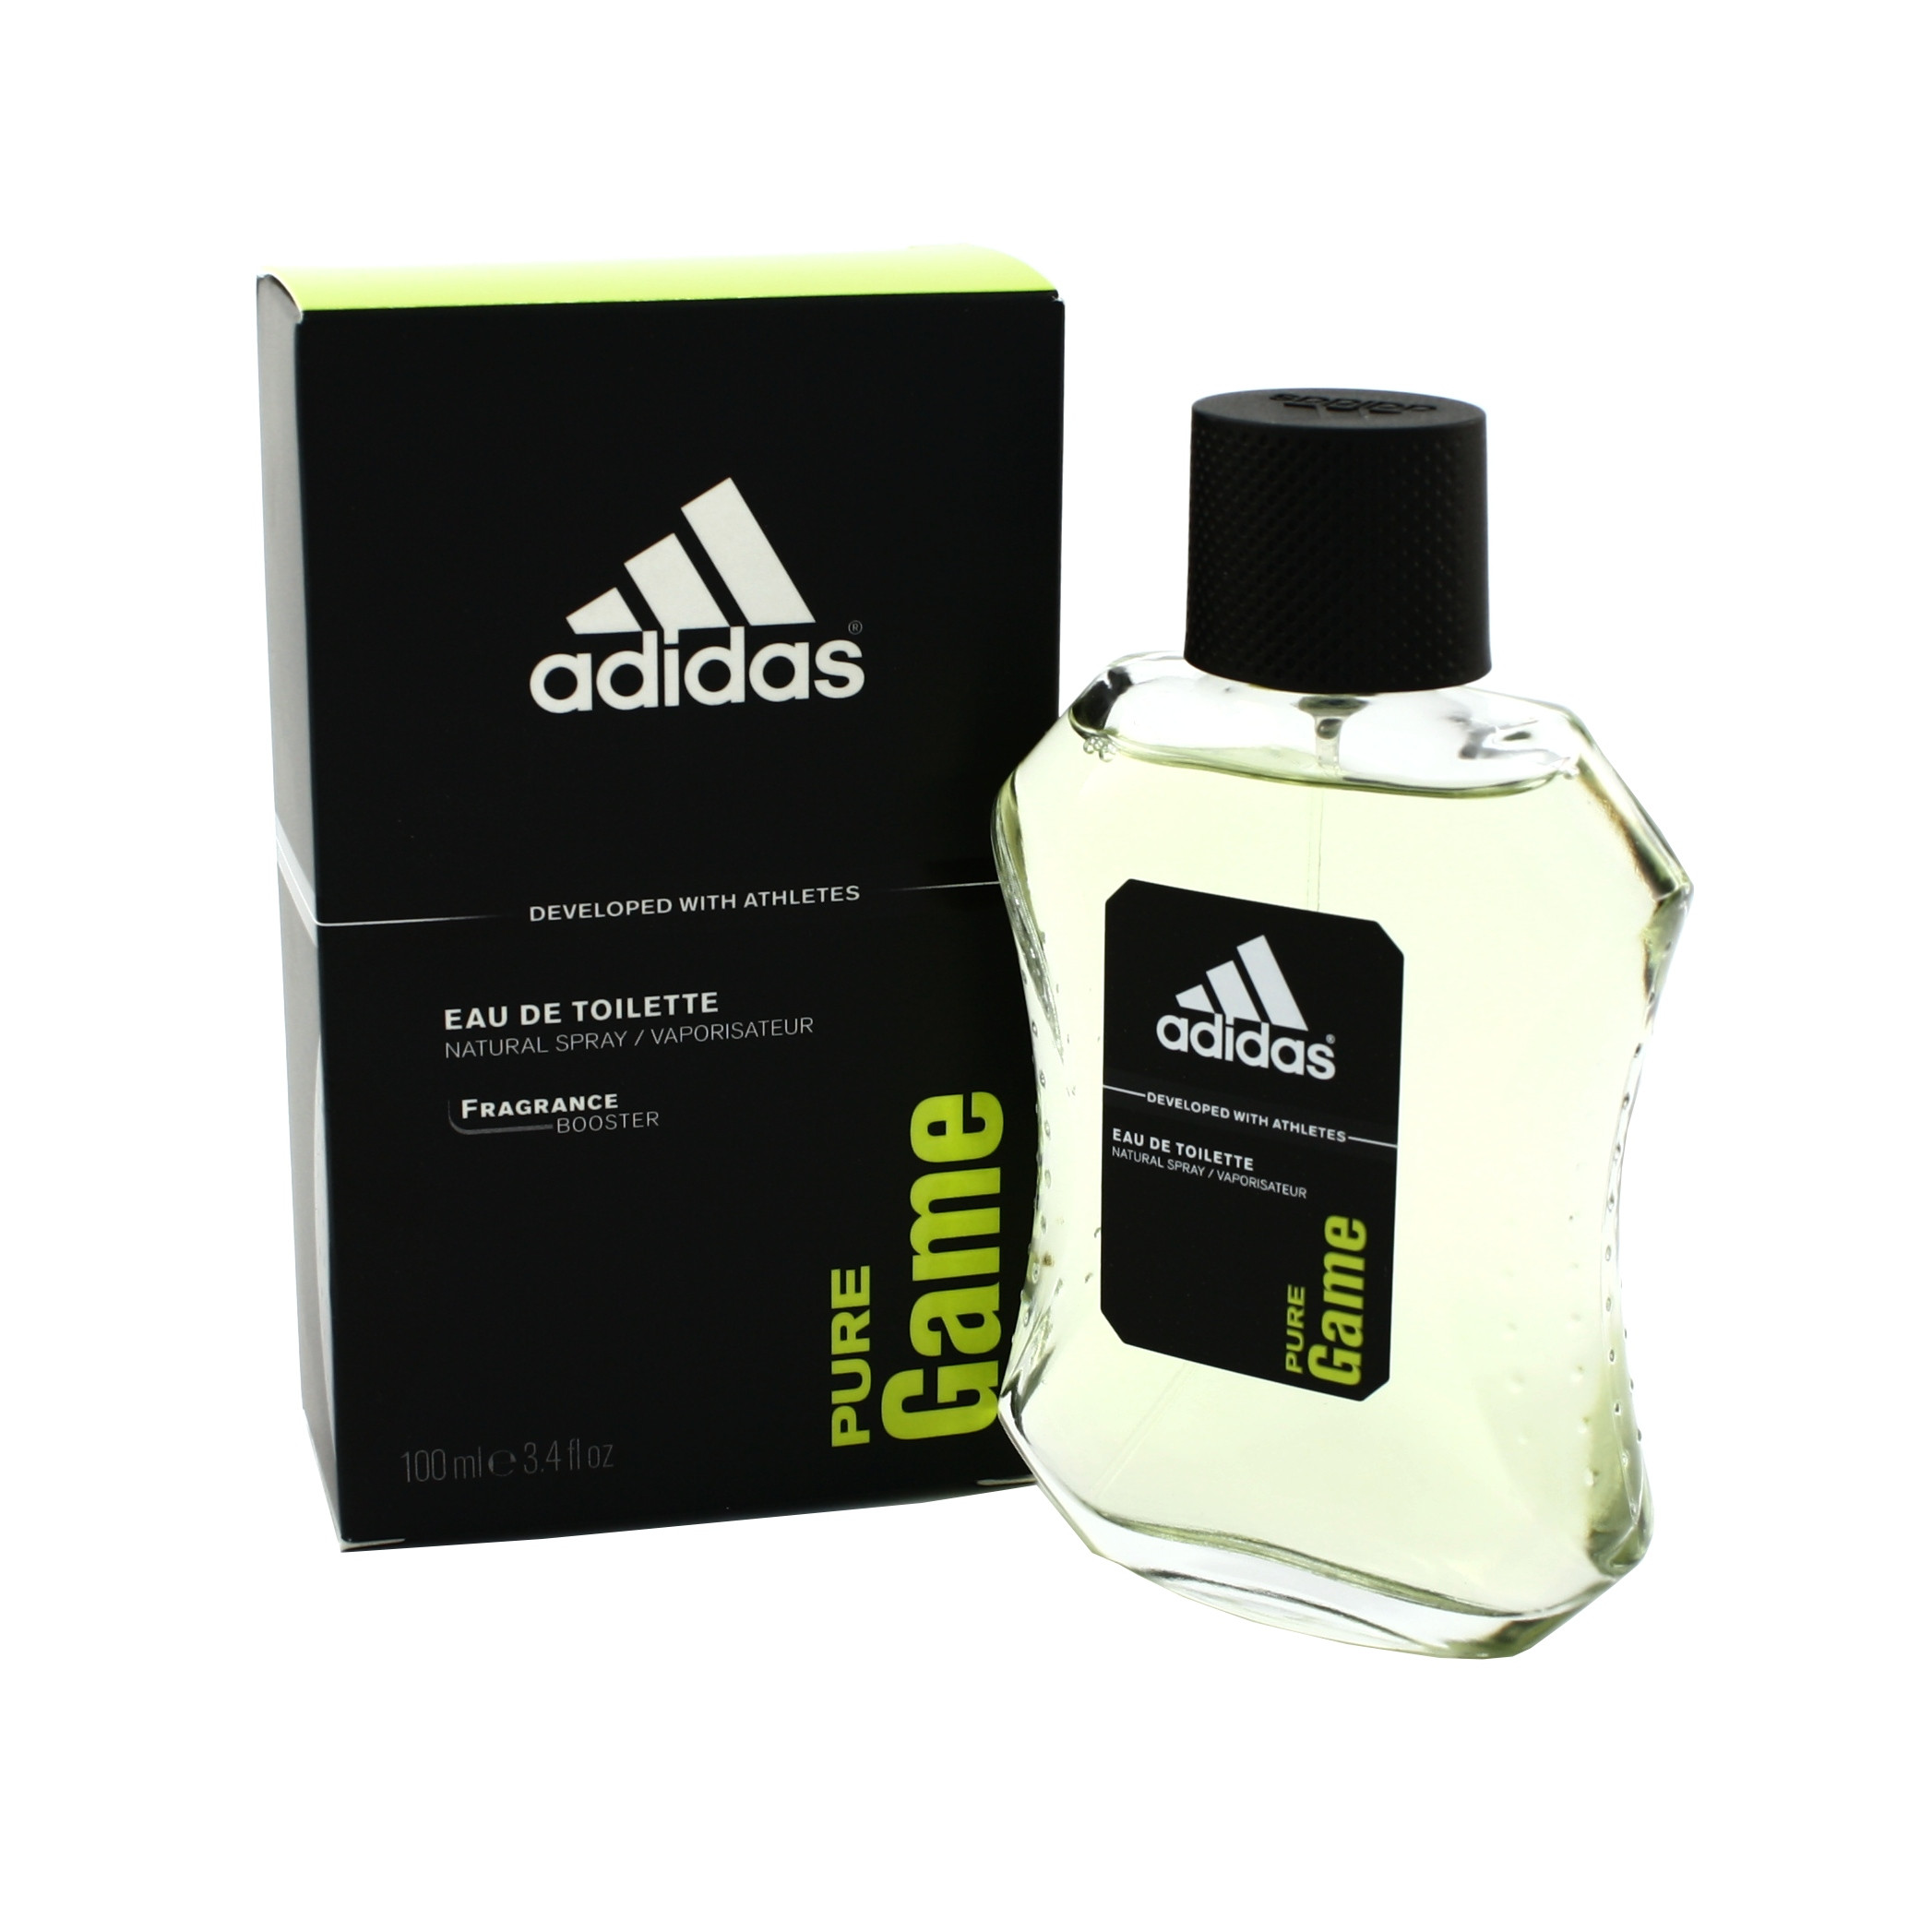Adidas: (517, 467, 881, 717), (1155, 924, 1353, 1090)
